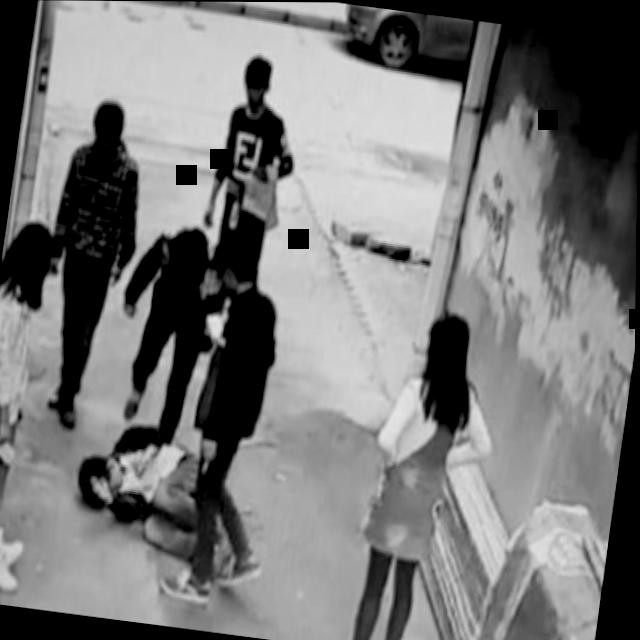Fall-Detected: (56, 404, 277, 594)
